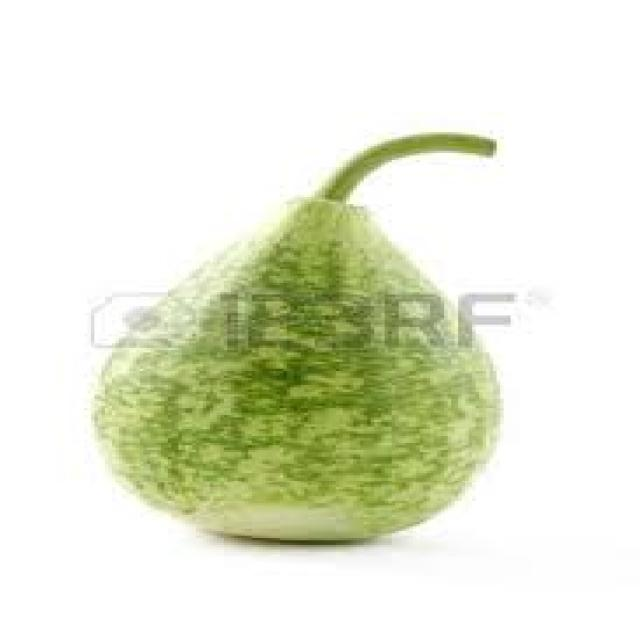organic waste: (88, 130, 496, 538)
